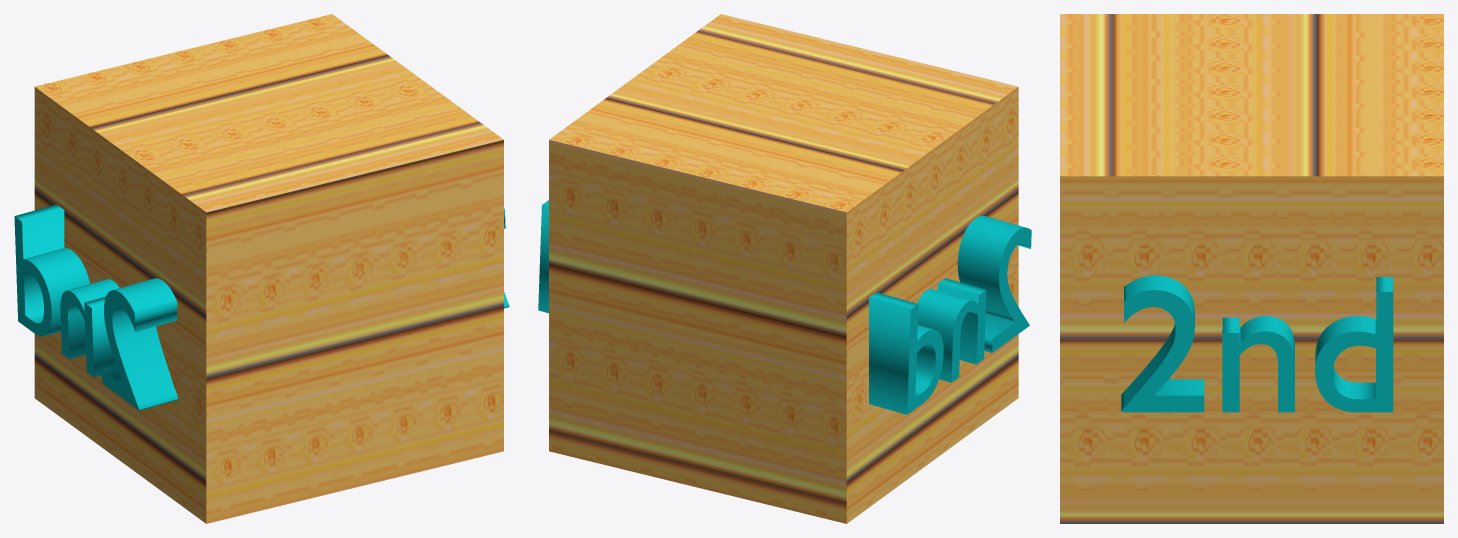
Rendered from stage_2_Cube.obj.
3 views of the same model, side by side, from view 1: azimuth 30°, elevation 25°; view 2: azimuth 150°, elevation 25°; view 3: azimuth 270°, elevation 25° (orthographic). The views are drawn at different scales.
Parts seen in each view (by area): view 1: 立方体; view 2: 立方体; view 3: 立方体.
Part boxes in pixels (<box>): 立方体: <box>14,14,509,523</box>; 立方体: <box>538,14,1031,523</box>; 立方体: <box>1060,14,1443,523</box>.
Size of the model in its own units: 2.51 by 2 by 2.
